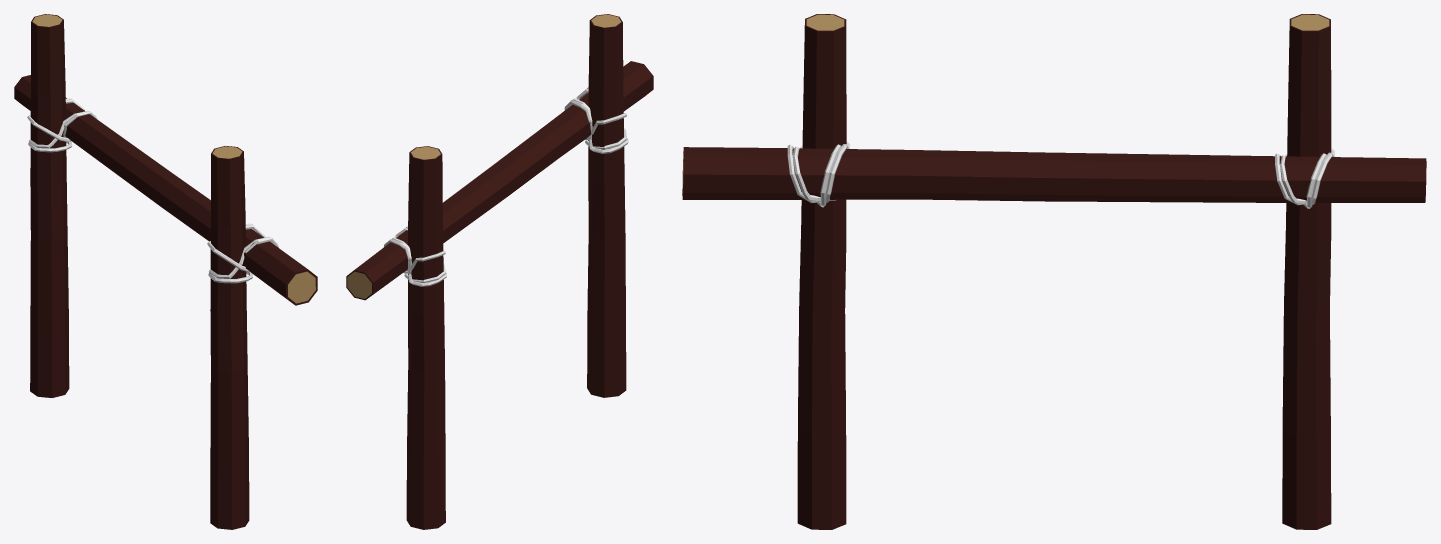
The model's file is SM_Fence_003.fbx.
3 renders of one model, left to right at view 1: azimuth 30°, elevation 25°; view 2: azimuth 150°, elevation 25°; view 3: azimuth 270°, elevation 25°, orthographic. The views are drawn at different scales.
Visible parts, largest first — view 1: Fence; view 2: Fence; view 3: Fence.
Boxes of the visible parts, x1,y1,x2,y2 form: Fence: (14, 14, 317, 529); Fence: (346, 14, 653, 529); Fence: (682, 14, 1426, 529).
Size of what is drawn, in the model's own units: 22.93 by 140 by 190.
